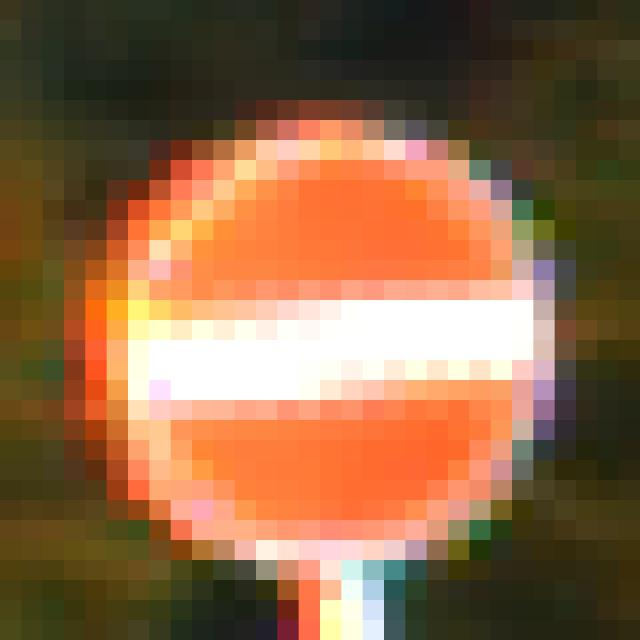No Entry: (108, 121, 534, 541)
